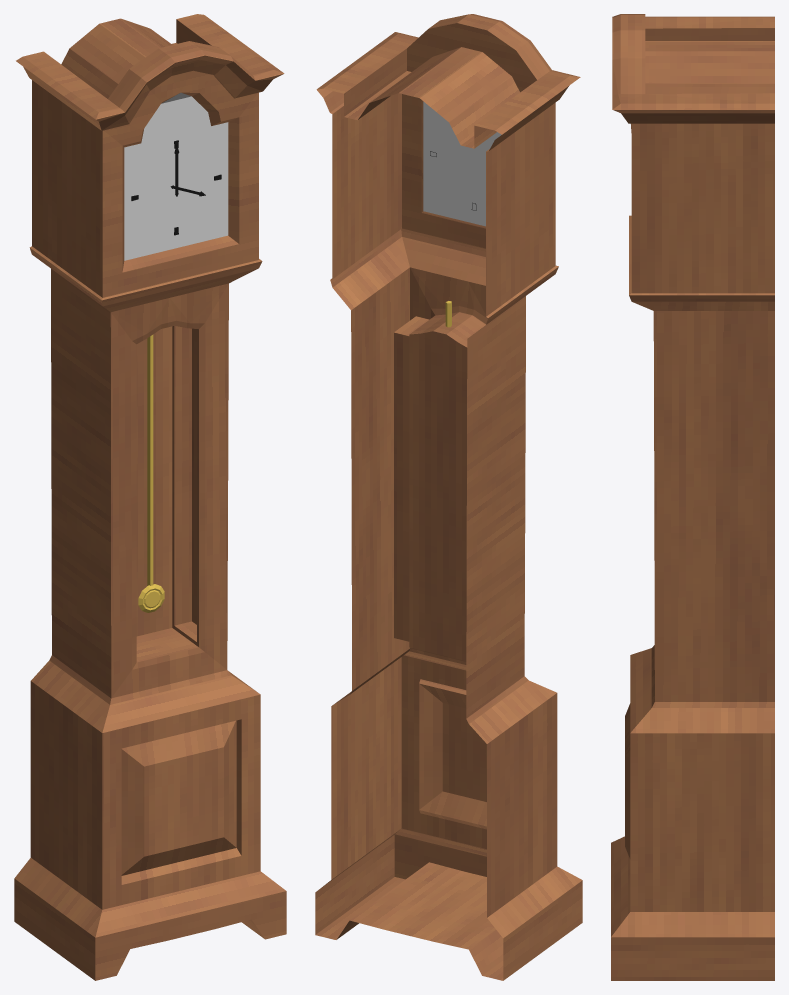
Rendered from grandfather-clock.glb.
The picture shows the model from 3 angles, left to right: view 1: azimuth 30°, elevation 25°; view 2: azimuth 150°, elevation 25°; view 3: azimuth 270°, elevation 25°; orthographic projection. The views are drawn at different scales.
Visible parts, largest first — view 1: Grandfathers_clock.001, Grandfathers_clock; view 2: Grandfathers_clock.001, Grandfathers_clock; view 3: Grandfathers_clock.001.
Boxes of the visible parts, box(x1,y1,x2,y2) form: Grandfathers_clock.001: box(14, 14, 286, 980); Grandfathers_clock: box(124, 92, 228, 612); Grandfathers_clock.001: box(315, 14, 582, 980); Grandfathers_clock: box(423, 101, 501, 327); Grandfathers_clock.001: box(611, 14, 774, 980).
Size of the model in its own units: 0.3032 by 1.36 by 0.2224.
2 materials, 2 textured.
